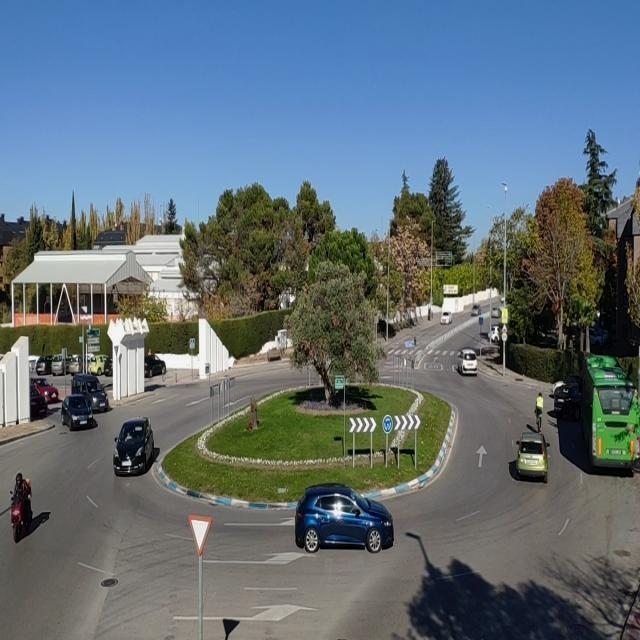Bus: (580, 352, 640, 476)
Car: (294, 482, 394, 552), (112, 418, 156, 474), (514, 431, 550, 480), (71, 374, 109, 412), (60, 394, 96, 429), (552, 383, 583, 420), (31, 379, 60, 405), (30, 383, 48, 418), (457, 348, 478, 376), (143, 354, 166, 378), (35, 355, 55, 376), (88, 354, 108, 375), (51, 354, 71, 375), (69, 358, 86, 375), (588, 327, 604, 345), (488, 326, 500, 343), (104, 357, 113, 377), (440, 311, 452, 324), (471, 304, 481, 316), (491, 307, 501, 318)
Cycle: (8, 489, 33, 543), (534, 404, 542, 432)
